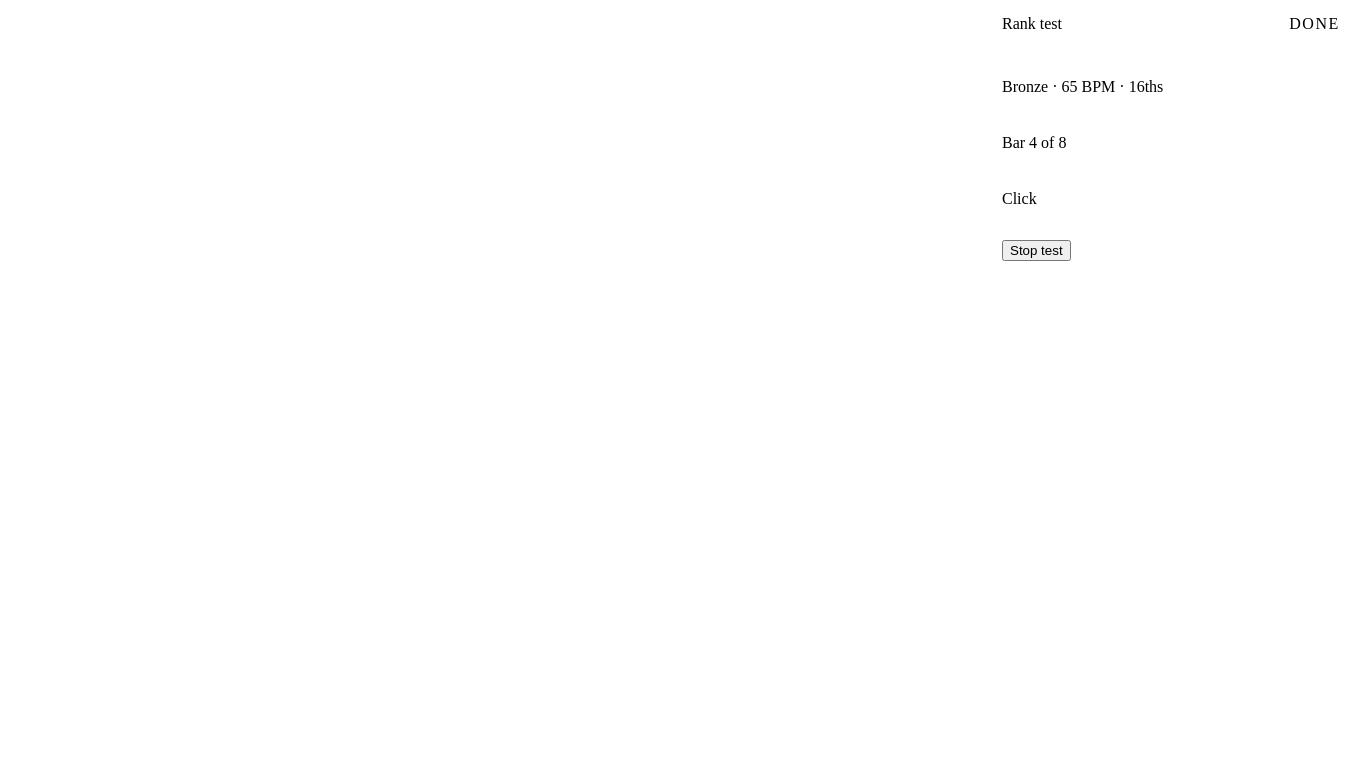
Test: RankTestSheet › stopping mid-test goes back to the start without a checklist
Earlier steps of the test are not shown.
Click the button "Stop test" at point(1036, 250), box [1002,240,1071,261]
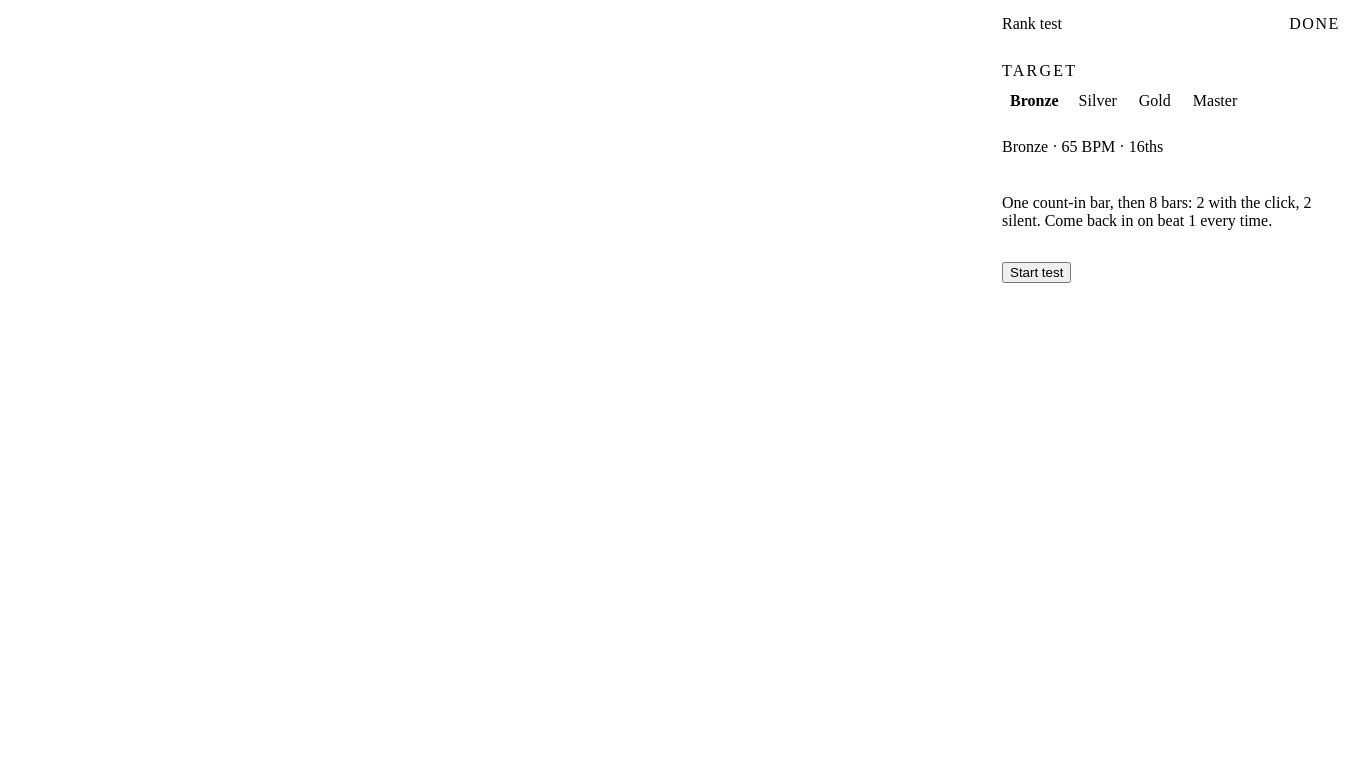
Expected: the button "Start test" is shown, [1002,262,1071,283]
